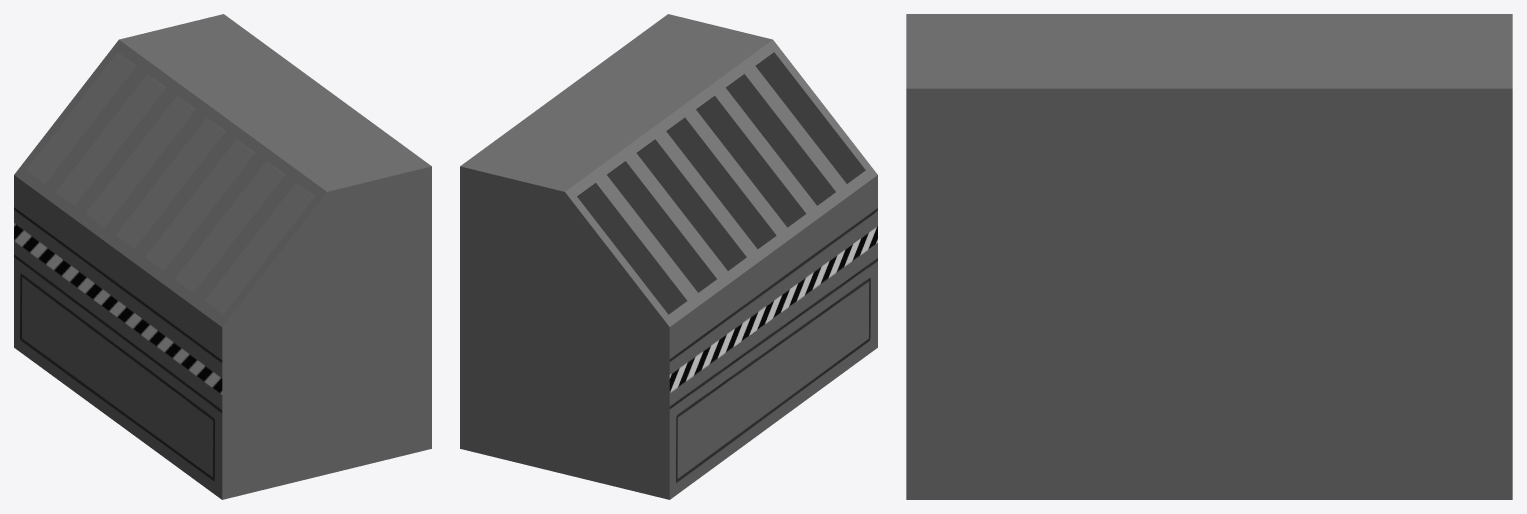
3 renders of one model, left to right at view 1: azimuth 30°, elevation 25°; view 2: azimuth 150°, elevation 25°; view 3: azimuth 270°, elevation 25°, orthographic. The views are drawn at different scales.
Visible parts, largest first — view 1: SM_B_Part14; view 2: SM_B_Part14; view 3: SM_B_Part14.
Part boxes in pixels (box(x1,y1,x2,y2)): SM_B_Part14: box(14, 14, 431, 499); SM_B_Part14: box(460, 14, 877, 499); SM_B_Part14: box(906, 14, 1512, 499).
Bounding box in the file's own units: 181 × 312 × 233.
1 material, 1 textured.
